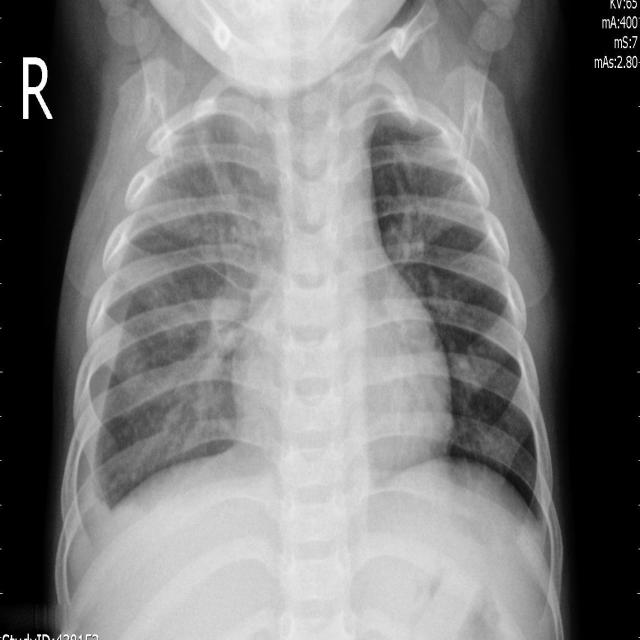low-pneumonia: (200, 100, 274, 301), (176, 278, 241, 423), (387, 167, 439, 287)
